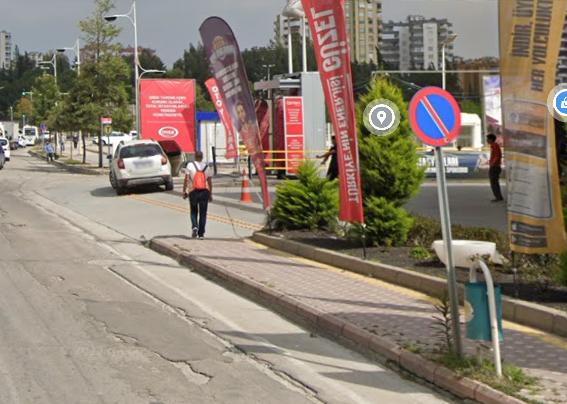nopark: (409, 86, 462, 144)
